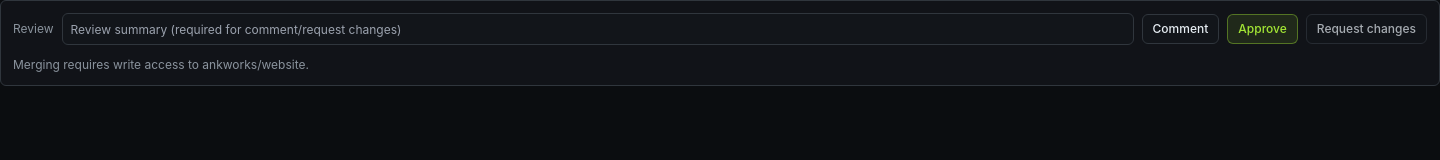
DiscussionActions › submits an approval review
Click the button "Approve" at [1263, 29], box [1227, 14, 1298, 44]
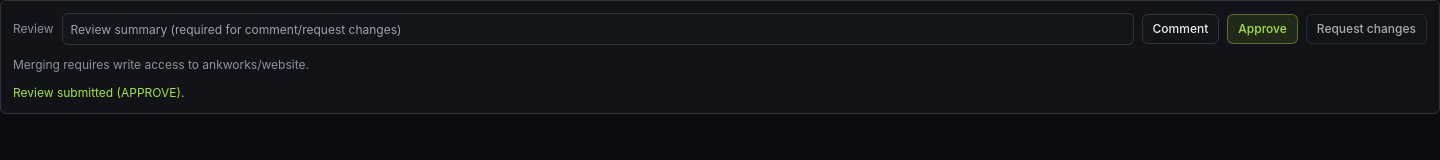
Now the text "Review submitted (APPROVE)." is shown, box [13, 85, 184, 100]
